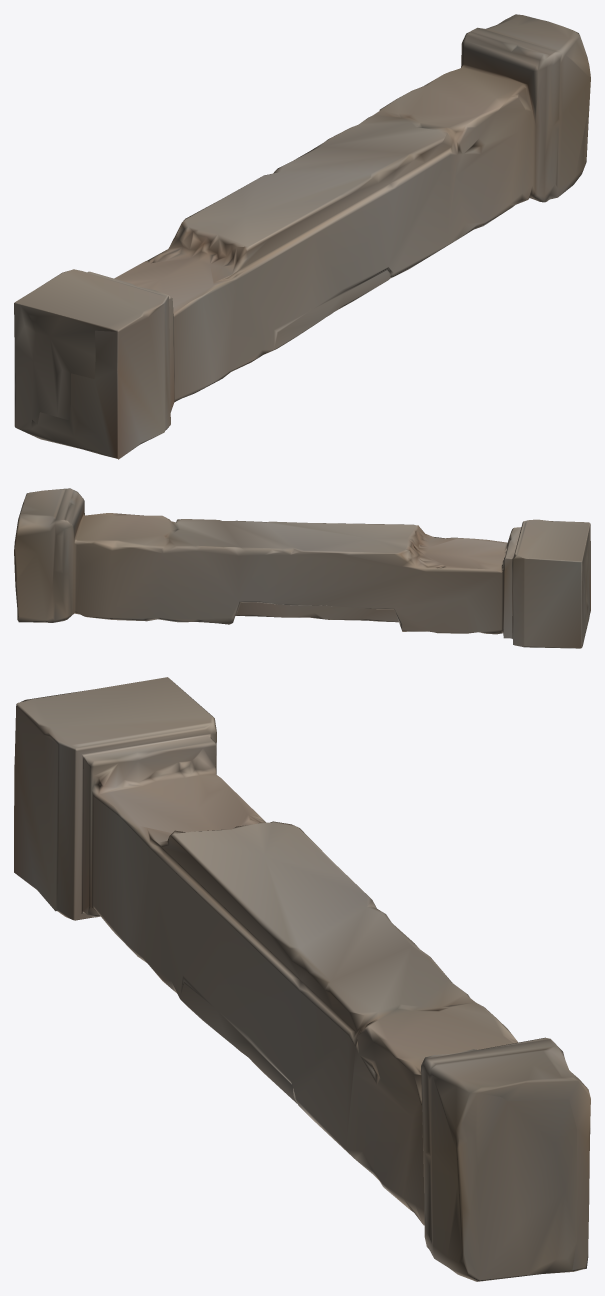
File: SM_ArchTop_01_N1.fbx
3 renders of one model, top to bottom at view 1: azimuth 30°, elevation 25°; view 2: azimuth 150°, elevation 25°; view 3: azimuth 270°, elevation 25°, orthographic. The views are drawn at different scales.
Parts seen in each view (by area): view 1: SM_ArchTop_01_N1; view 2: SM_ArchTop_01_N1; view 3: SM_ArchTop_01_N1.
Boxes of the visible parts, x1,y1,x2,y2 form: SM_ArchTop_01_N1: (14,14,590,459); SM_ArchTop_01_N1: (14,488,590,648); SM_ArchTop_01_N1: (14,677,590,1281).
Size of the model in its own units: 1600 by 881 by 339.
